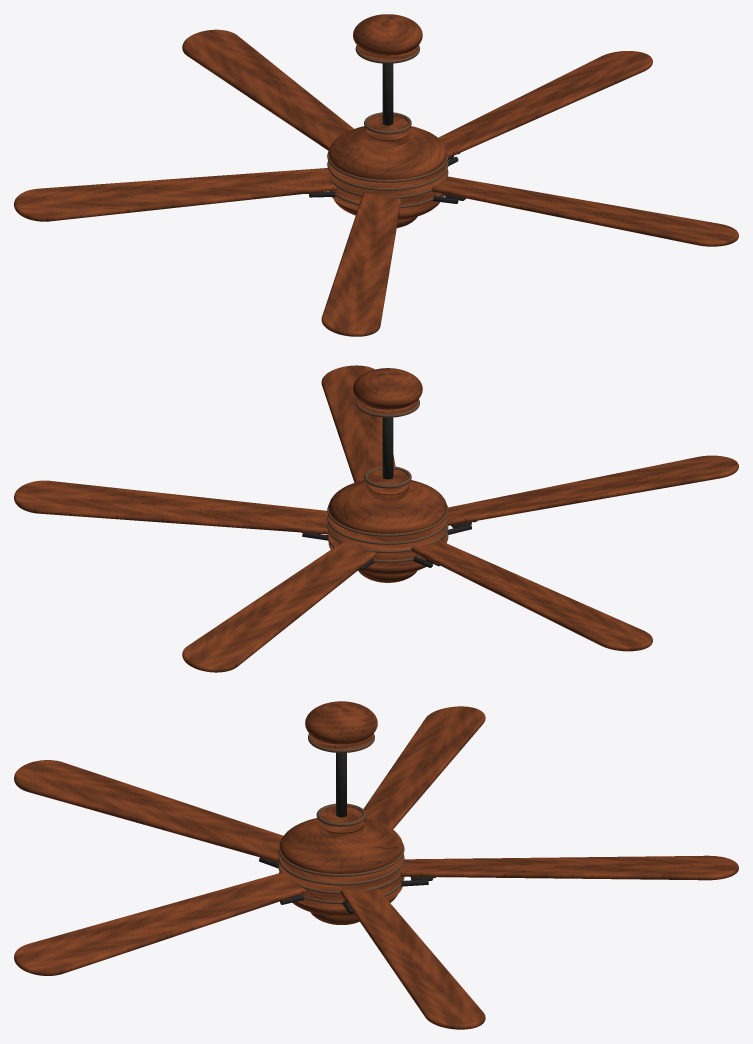
File: wooden_fan.glb
The picture shows the model from 3 angles, top to bottom: view 1: azimuth 30°, elevation 25°; view 2: azimuth 150°, elevation 25°; view 3: azimuth 270°, elevation 25°; orthographic projection. The views are drawn at different scales.
Parts seen in each view (by area): view 1: wooden_blade_2, wooden_blade_3, wooden_blade_1, wooden_blade_4, wooden_blade_5, upper wooden motor dome, round wooden motor core, rounded ceiling canopy, upper wooden neck, black vertical downrod; view 2: wooden_blade_5, wooden_blade_1, wooden_blade_2, wooden_blade_3, upper wooden motor dome, wooden_blade_4, rounded ceiling canopy, round wooden motor core, upper wooden neck, black vertical downrod; view 3: wooden_blade_4, wooden_blade_3, wooden_blade_5, wooden_blade_1, wooden_blade_2, upper wooden motor dome, rounded ceiling canopy, round wooden motor core, upper wooden neck, black vertical downrod.
Boxes of the visible parts, <box> form: wooden_blade_2: <box>14,168,337,221</box>; wooden_blade_3: <box>321,193,401,336</box>; wooden_blade_1: <box>182,29,353,150</box>; wooden_blade_4: <box>431,176,738,246</box>; wooden_blade_5: <box>438,51,652,157</box>; upper wooden motor dome: <box>328,126,446,179</box>; round wooden motor core: <box>328,155,446,213</box>; rounded ceiling canopy: <box>353,14,422,55</box>; upper wooden neck: <box>366,115,408,146</box>; black vertical downrod: <box>382,63,393,125</box>; wooden_blade_5: <box>14,480,328,534</box>; wooden_blade_1: <box>182,541,376,672</box>; wooden_blade_2: <box>411,540,652,651</box>; wooden_blade_3: <box>447,455,738,525</box>; upper wooden motor dome: <box>328,480,446,533</box>; wooden_blade_4: <box>321,365,395,482</box>; rounded ceiling canopy: <box>353,368,422,409</box>; round wooden motor core: <box>328,509,446,568</box>; upper wooden neck: <box>366,469,408,500</box>; black vertical downrod: <box>382,417,393,479</box>; wooden_blade_4: <box>14,872,306,975</box>; wooden_blade_3: <box>14,760,283,862</box>; wooden_blade_5: <box>340,889,485,1029</box>; wooden_blade_1: <box>400,855,738,880</box>; wooden_blade_2: <box>363,706,485,829</box>; upper wooden motor dome: <box>280,818,402,873</box>; rounded ceiling canopy: <box>305,701,377,744</box>; round wooden motor core: <box>280,849,402,909</box>; upper wooden neck: <box>319,806,363,839</box>; black vertical downrod: <box>336,753,346,817</box>.
Size of the model in its own units: 9.61 by 2.96 by 9.17.
3 materials, 1 textured.
